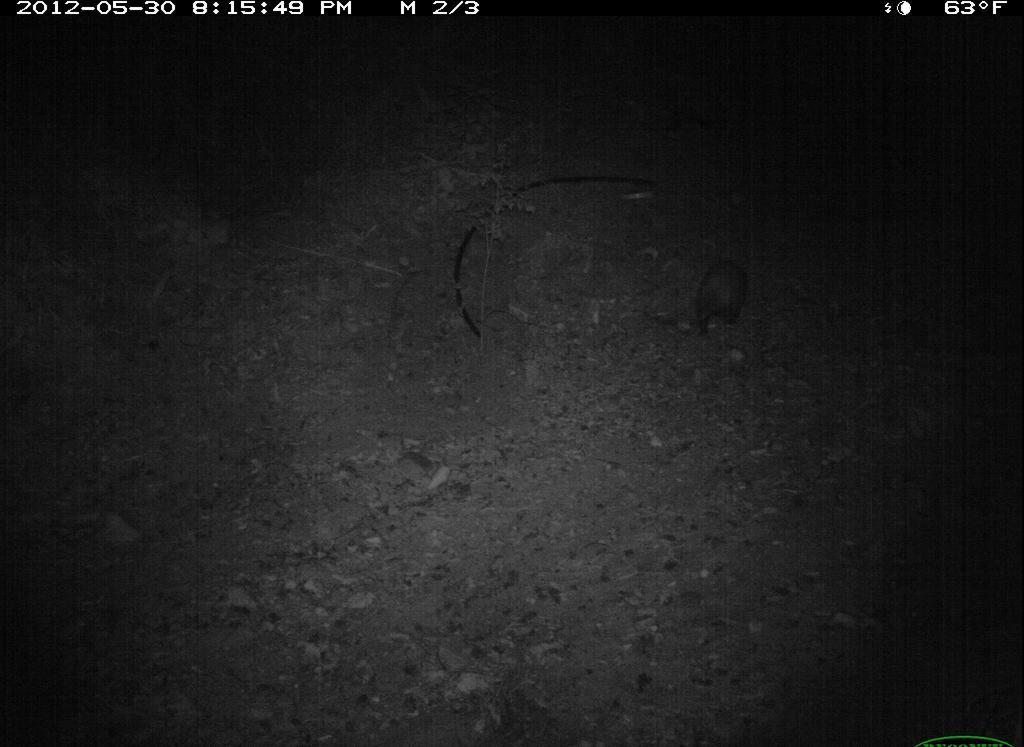opossum: (683, 252, 754, 338)
